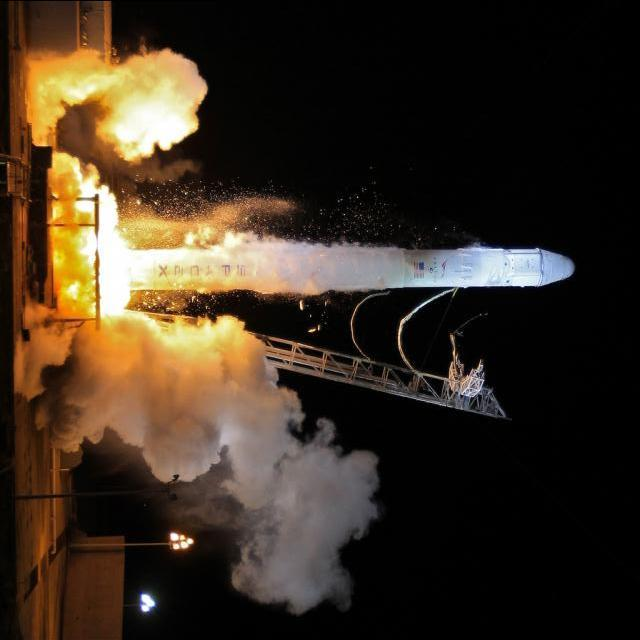missile: (129, 245, 576, 295)
